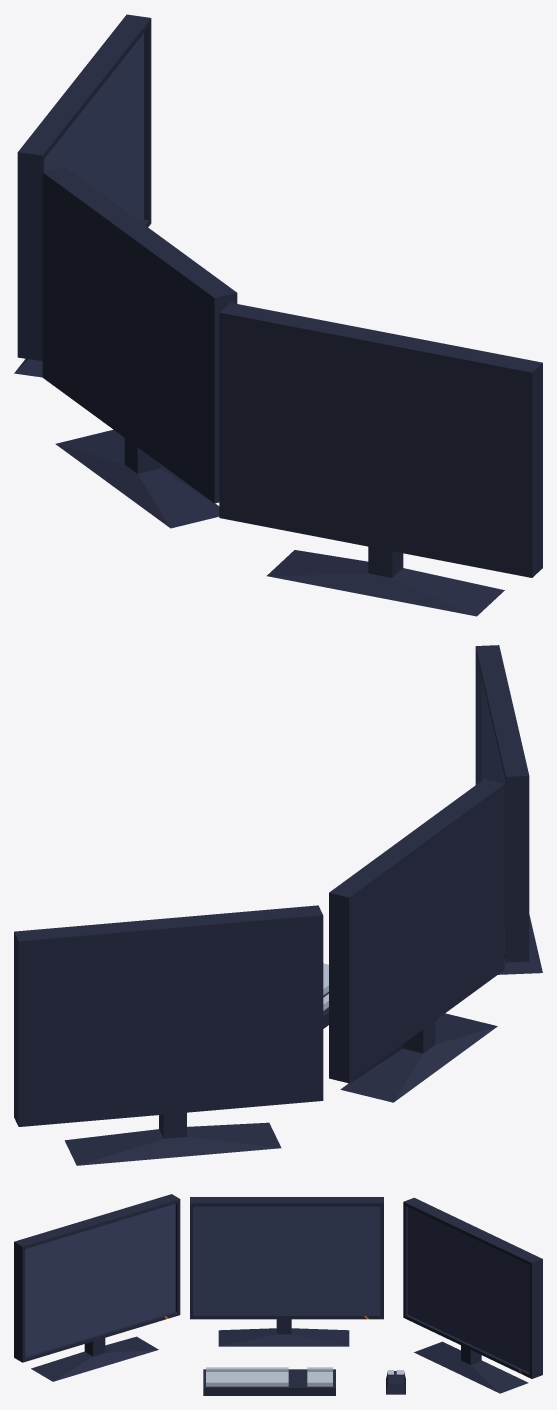
The model's file is computer.glb.
The picture shows the model from 3 angles, top to bottom: view 1: azimuth 30°, elevation 25°; view 2: azimuth 150°, elevation 25°; view 3: azimuth 270°, elevation 25°; orthographic projection. The views are drawn at different scales.
Visible parts, largest first — view 1: Monitor.002, Monitor, Monitor.001; view 2: Monitor.001, Monitor, Monitor.002; view 3: Monitor, Monitor.002, Monitor.001, Keyboard, Mouse.
Boxes of the visible parts, x1,y1,x2,y2 form: Monitor.002: [219, 302, 542, 616]; Monitor: [42, 167, 237, 528]; Monitor.001: [14, 14, 151, 377]; Monitor.001: [14, 905, 323, 1165]; Monitor: [329, 779, 504, 1102]; Monitor.002: [475, 645, 542, 974]; Monitor: [190, 1197, 383, 1346]; Monitor.002: [14, 1194, 180, 1381]; Monitor.001: [403, 1197, 542, 1393]; Keyboard: [203, 1367, 335, 1395]; Mouse: [386, 1370, 405, 1394].
Size of the model in its own units: 2.63 by 2.47 by 8.27.
5 materials, 5 textured.
